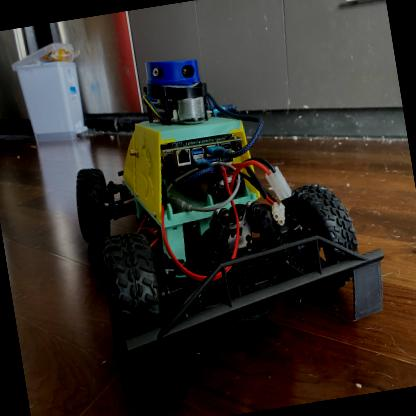mushr_car: (56, 19, 405, 415)
